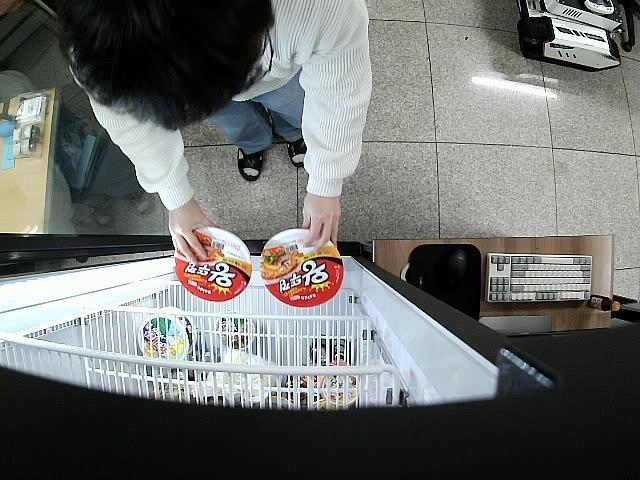10_wangTtukkeong: (260, 227, 344, 308), (174, 226, 252, 302)
